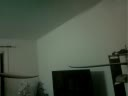window: (1, 1, 126, 96)
